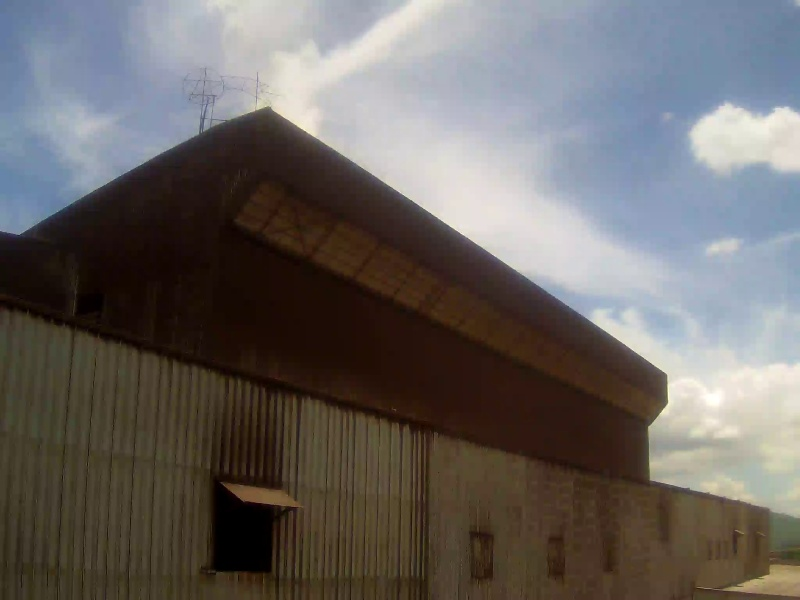bom: (258, 34, 770, 458), (629, 276, 800, 473), (21, 17, 266, 145)
